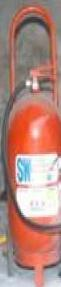cylinder: (0, 1, 61, 287)
